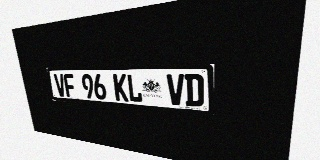6: (92, 74, 107, 100)
9: (81, 74, 95, 99)
D: (185, 74, 204, 107)
F: (63, 74, 76, 98)
K: (113, 74, 128, 101)
L: (126, 74, 143, 103)
V: (166, 74, 185, 106), (53, 74, 67, 97)
